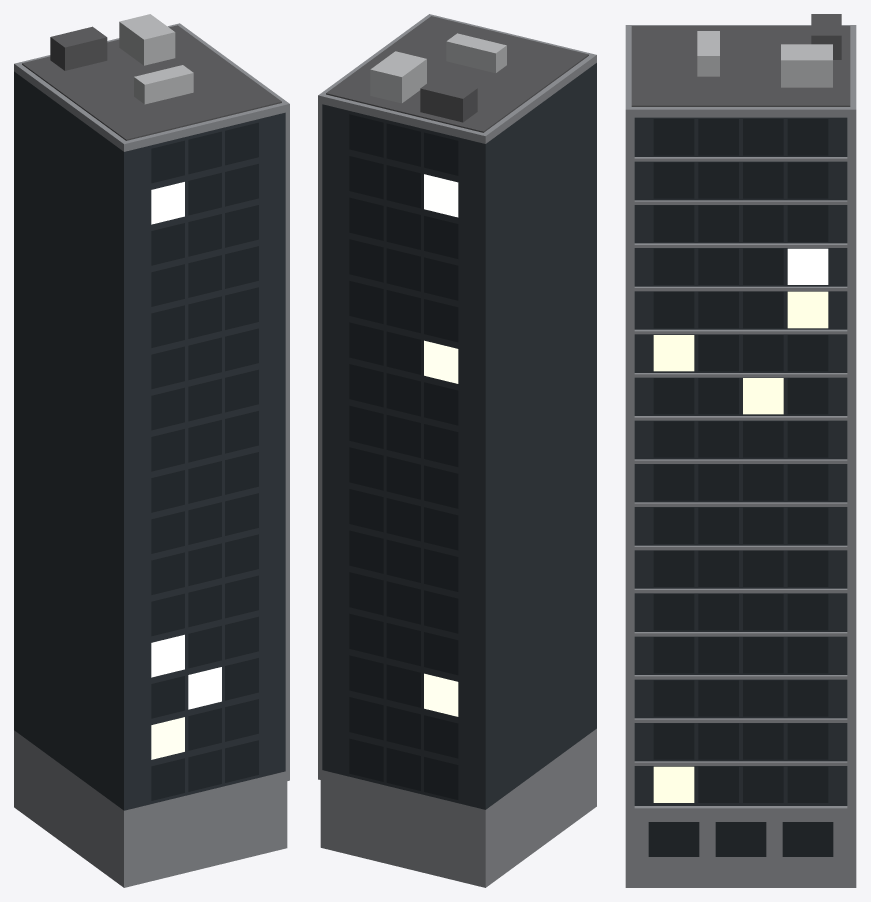
The picture shows the model from 3 angles, left to right: view 1: azimuth 30°, elevation 25°; view 2: azimuth 150°, elevation 25°; view 3: azimuth 270°, elevation 25°; orthographic projection. The views are drawn at different scales.
Visible parts, largest first — view 1: facades, windows, roofs, lit; view 2: facades, windows, roofs, lit; view 3: windows, facades, roofs, lit.
Part boxes in pixels (x1,y1,x2,y2): facades: (14,23,289,887); windows: (151,122,258,800); roofs: (22,14,281,140); lit: (151,182,221,759); facades: (318,14,596,887); windows: (349,114,458,799); roofs: (326,16,588,132); lit: (424,174,458,716); windows: (648,119,833,856); facades: (625,25,856,887); roofs: (631,14,850,106); lit: (653,248,828,802).
Size of the model in its own units: 13.48 by 59.92 by 15.56.
